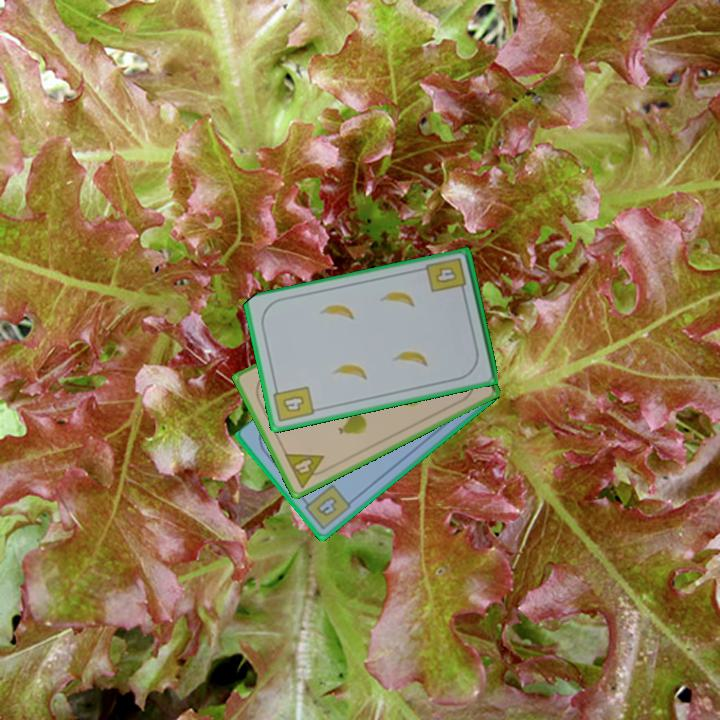4b: (299, 481, 354, 532), (270, 382, 317, 426), (423, 254, 469, 298)
4p: (281, 450, 333, 491)
